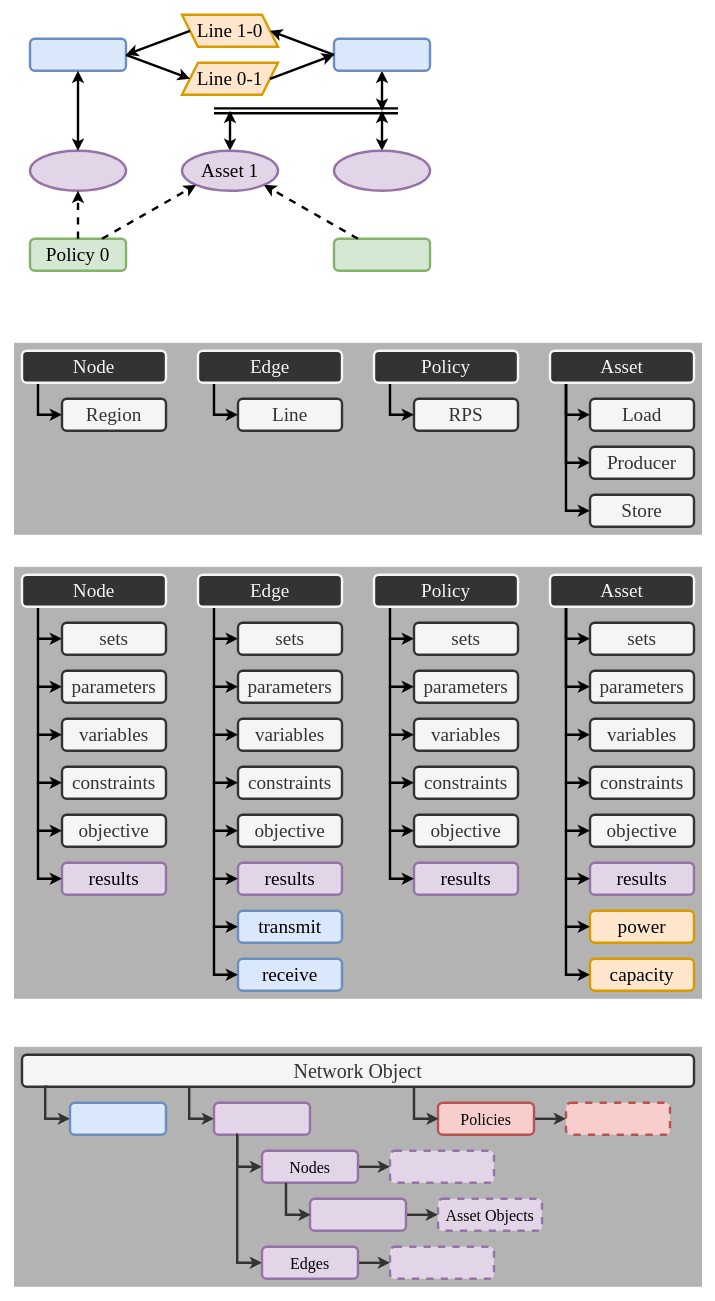
Image size: 715x1301. Some labels were removed from this diagram. Each missing label, with the box of its shape:
Asset 0: (28, 149, 127, 192)
Asset 2: (332, 149, 431, 192)
Assets: (308, 1197, 407, 1232)
Edge Objects: (388, 1245, 495, 1280)
Globals: (68, 1101, 167, 1136)
Graph: (212, 1101, 311, 1136)
Node Objects: (388, 1149, 495, 1184)
Policy 1: (332, 237, 431, 272)
Policy Objects: (564, 1101, 671, 1136)
Region 0: (28, 37, 127, 72)
Region 1: (332, 37, 431, 72)
